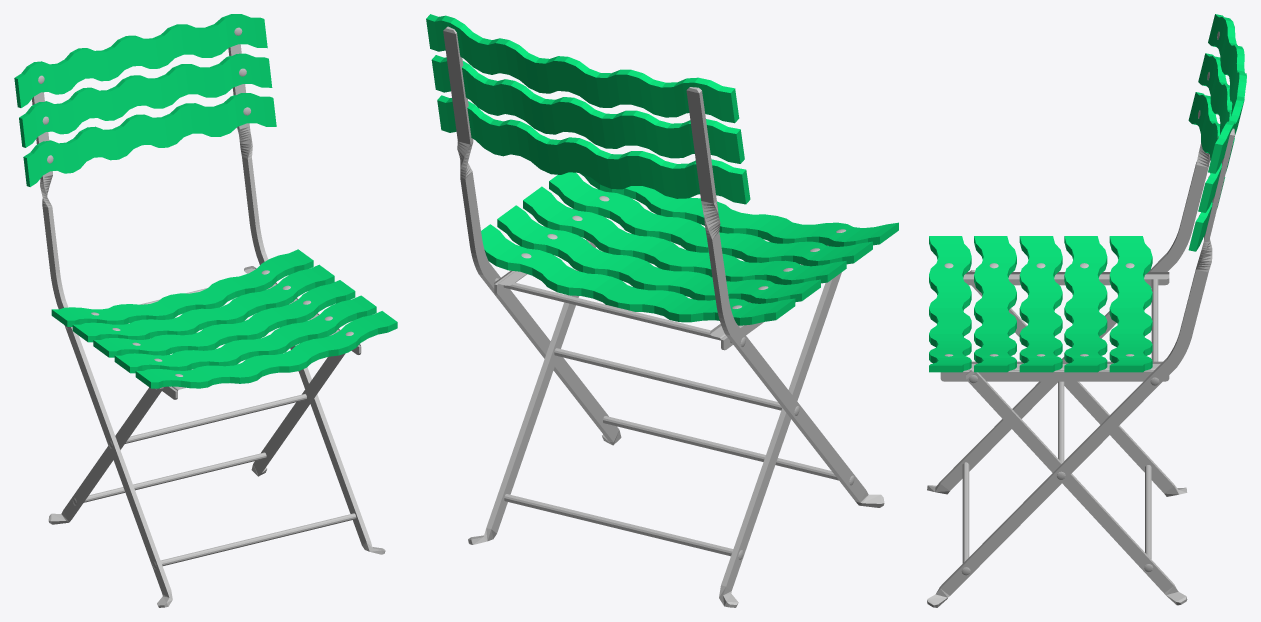
File: sweethome3d-katorlegaz-cafe-chair.glb
3 renders of one model, left to right at view 1: azimuth 30°, elevation 25°; view 2: azimuth 150°, elevation 25°; view 3: azimuth 270°, elevation 25°, orthographic. The views are drawn at different scales.
Visible parts, largest first — view 1: Cafe_chair_Cafe_chair_Green_chair, Cafe_chair_Cafe_chair_Aluminum; view 2: Cafe_chair_Cafe_chair_Green_chair, Cafe_chair_Cafe_chair_Aluminum; view 3: Cafe_chair_Cafe_chair_Green_chair, Cafe_chair_Cafe_chair_Aluminum.
Boxes of the visible parts, x1,y1,x2,y2 form: Cafe_chair_Cafe_chair_Green_chair: (14,14,397,388); Cafe_chair_Cafe_chair_Aluminum: (32,27,385,607); Cafe_chair_Cafe_chair_Green_chair: (426,14,898,325); Cafe_chair_Cafe_chair_Aluminum: (443,26,884,607); Cafe_chair_Cafe_chair_Green_chair: (929,14,1246,372); Cafe_chair_Cafe_chair_Aluminum: (927,26,1234,607).
Bounding box in the file's own units: 3.63 × 6.23 × 3.79.
